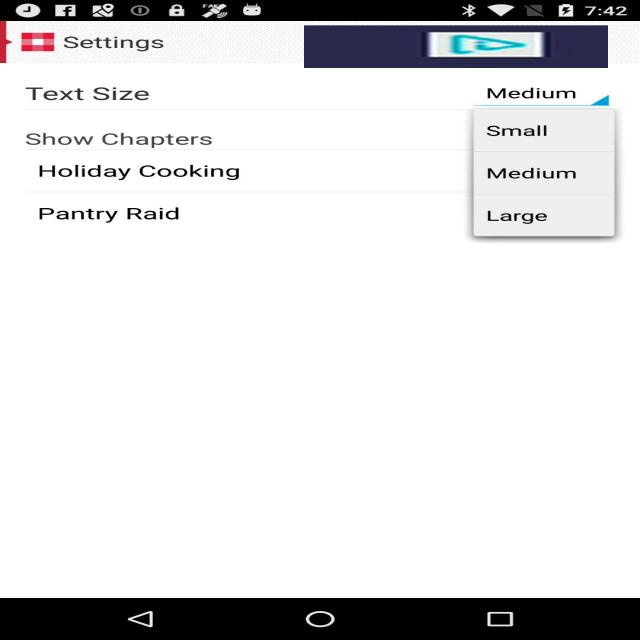sneaking: (304, 25, 608, 68)
